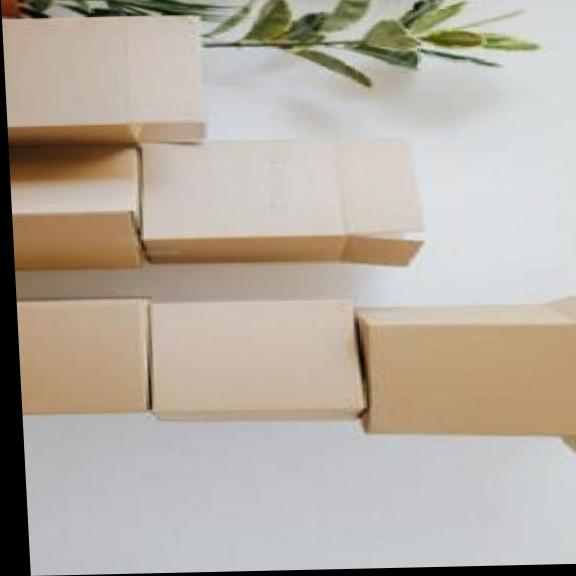Kertas: (132, 135, 423, 275), (354, 291, 576, 441), (137, 294, 368, 429), (4, 9, 219, 144), (17, 293, 162, 424), (10, 145, 145, 284)
